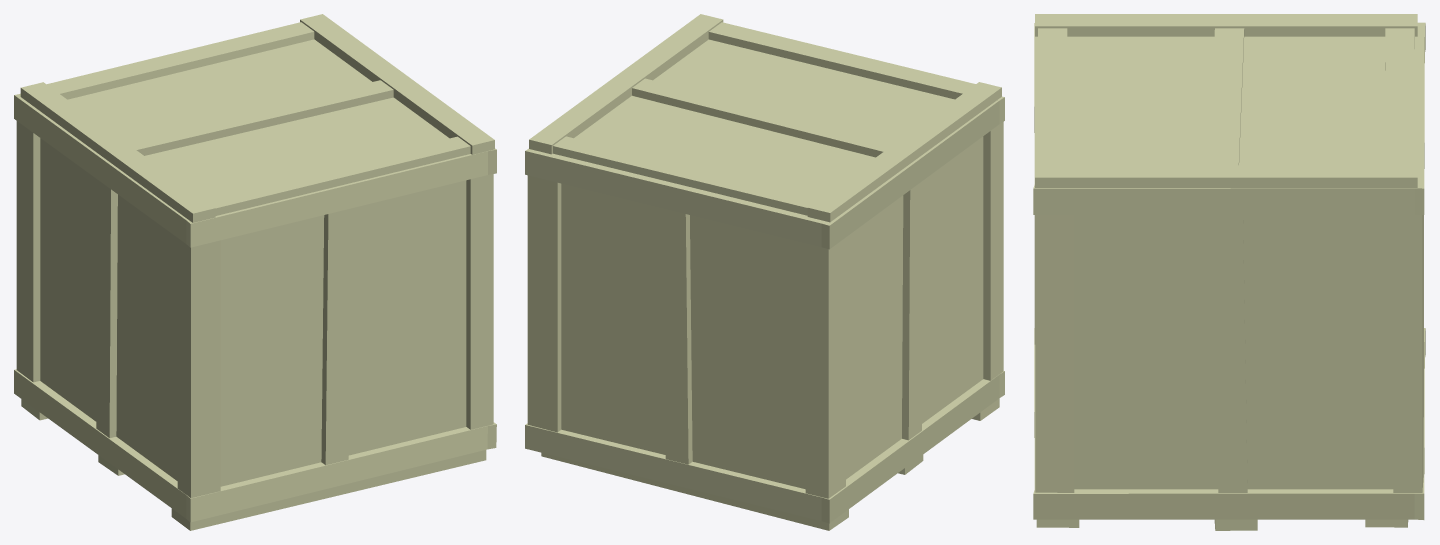
File: crate_italy.fbx
The picture shows the model from 3 angles, left to right: view 1: azimuth 30°, elevation 25°; view 2: azimuth 150°, elevation 25°; view 3: azimuth 270°, elevation 25°; orthographic projection. The views are drawn at different scales.
Parts seen in each view (by area): view 1: wood_crate001a_bg_body_lod0_italy_wood_crate_1; view 2: wood_crate001a_bg_body_lod0_italy_wood_crate_1; view 3: wood_crate001a_bg_body_lod0_italy_wood_crate_1.
Boxes of the visible parts, x1,y1,x2,y2 form: wood_crate001a_bg_body_lod0_italy_wood_crate_1: (14, 14, 496, 530); wood_crate001a_bg_body_lod0_italy_wood_crate_1: (525, 14, 1004, 530); wood_crate001a_bg_body_lod0_italy_wood_crate_1: (1033, 14, 1425, 530).
Bounding box in the file's own units: 102 × 102 × 102.
